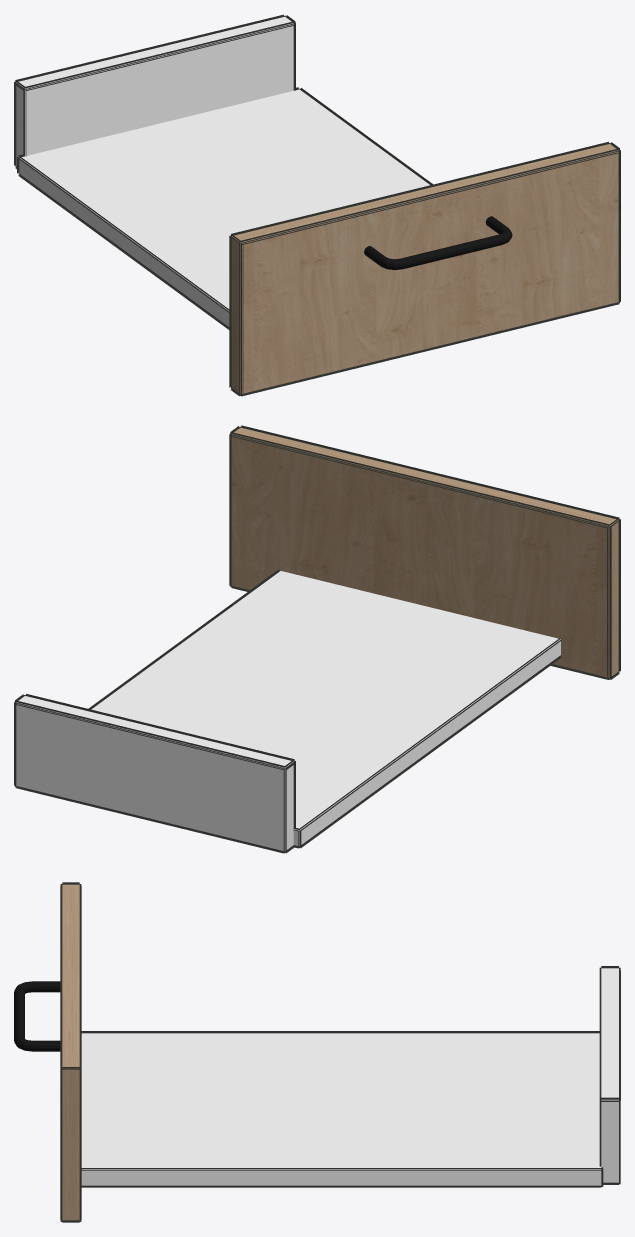
Rendered from skuff6.glb.
3 views of the same model, one above another, from view 1: azimuth 30°, elevation 25°; view 2: azimuth 150°, elevation 25°; view 3: azimuth 270°, elevation 25° (orthographic).
Size of the model in its own units: 401 by 156 by 554.
7 materials, 4 textured.
